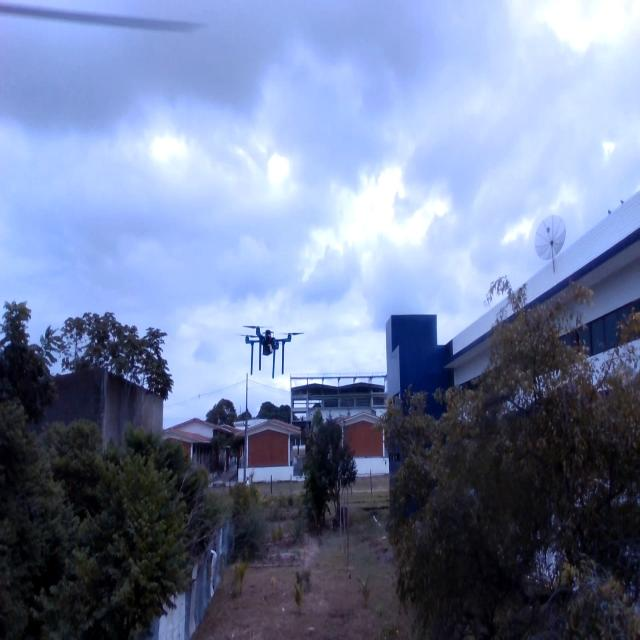-uav-: (238, 299, 307, 385)
